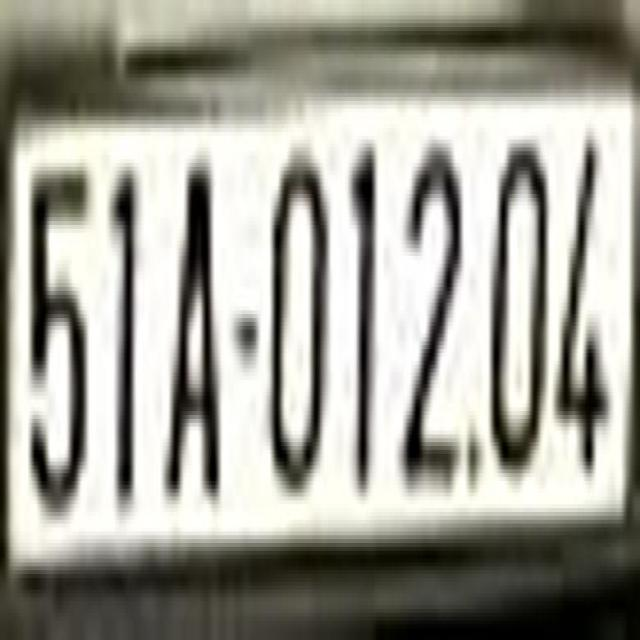0: (487, 124, 549, 489), (268, 144, 326, 492)
1: (108, 167, 147, 508), (351, 148, 381, 500)
2: (398, 112, 464, 496)
4: (560, 97, 608, 473)
5: (27, 151, 89, 512)
A: (162, 147, 222, 489)
